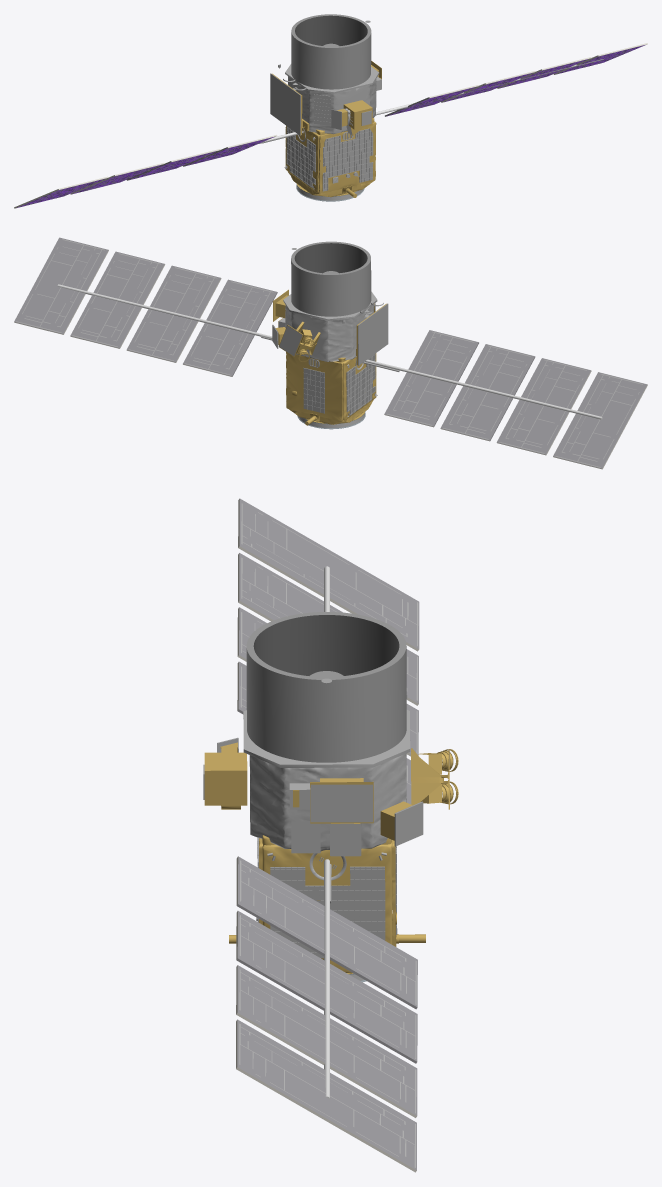
File: spacecraft.glb
3 renders of one model, top to bottom at view 1: azimuth 30°, elevation 25°; view 2: azimuth 150°, elevation 25°; view 3: azimuth 270°, elevation 25°, orthographic. The views are drawn at different scales.
Parts seen in each view (by area): view 1: Mesh _node_5, Mesh _node_19, Mesh _node_7, Mesh _node_16, Mesh _node_1, Mesh _node_18, Mesh, Mesh _node_3, Mesh _node_17, Mesh _node_9, Mesh _node_10, Mesh _node_13 (+4 smaller); view 2: Mesh _node_16, Mesh _node_7, Mesh _node_5, Mesh _node_19, Mesh _node_3, Mesh _node_18, Cylinder, Mesh _node_1, Mesh _node_17, Mesh _node_2; view 3: Mesh _node_16, Mesh _node_7, Mesh _node_19, Mesh _node_18, Mesh _node_1, Mesh _node_5, Mesh _node_2, Mesh _node_17, Cylinder.
Boxes of the visible parts, x1,y1,x2,y2 form: Mesh _node_5: (270, 20, 373, 191); Mesh _node_19: (291, 14, 371, 89); Mesh _node_7: (261, 64, 400, 200); Mesh _node_16: (15, 44, 646, 208); Mesh _node_1: (285, 65, 378, 197); Mesh _node_18: (295, 15, 367, 45); Mesh: (17, 46, 642, 207); Mesh _node_3: (285, 122, 376, 193); Mesh _node_17: (14, 43, 647, 208); Mesh _node_9: (19, 45, 645, 206); Mesh _node_10: (27, 48, 631, 204); Mesh _node_13: (22, 46, 640, 205); Mesh _node_16: (14, 237, 647, 468); Mesh _node_7: (16, 239, 642, 467); Mesh _node_5: (272, 248, 388, 415); Mesh _node_19: (291, 241, 371, 316); Mesh _node_3: (286, 352, 376, 421); Mesh _node_18: (294, 243, 367, 273); Cylinder: (57, 284, 602, 419); Mesh _node_1: (275, 295, 376, 424); Mesh _node_17: (14, 250, 647, 469); Mesh _node_2: (273, 289, 386, 425); Mesh _node_16: (236, 498, 419, 1170); Mesh _node_7: (239, 503, 420, 1167); Mesh _node_19: (246, 612, 406, 762); Mesh _node_18: (253, 615, 399, 675); Mesh _node_1: (204, 742, 412, 974); Mesh _node_5: (203, 678, 449, 958); Mesh _node_2: (229, 748, 458, 943); Mesh _node_17: (236, 499, 418, 1172); Cylinder: (324, 566, 329, 1099).
Bounding box in the file's own units: 228 × 57.86 × 42.73.
